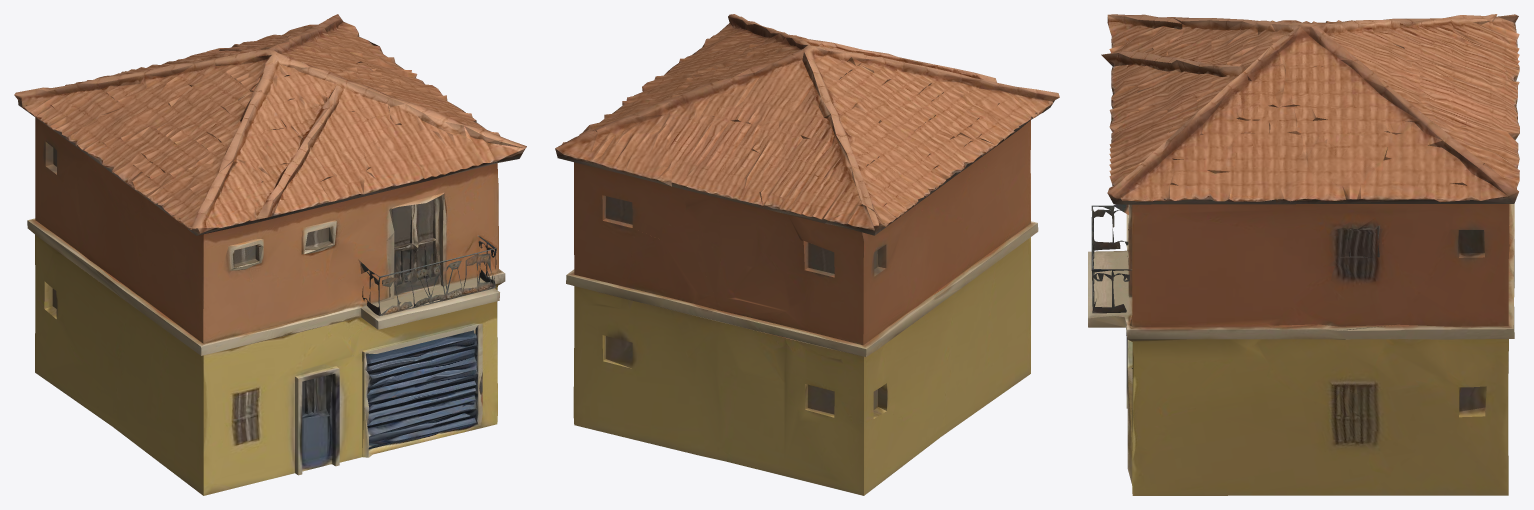
The model's file is predio_sobrado.glb.
3 renders of one model, left to right at view 1: azimuth 30°, elevation 25°; view 2: azimuth 150°, elevation 25°; view 3: azimuth 270°, elevation 25°, orthographic. The views are drawn at different scales.
Parts seen in each view (by area): view 1: tripo_node_ffc6efef-5a32-40a0-8a91-b0246f9edc43; view 2: tripo_node_ffc6efef-5a32-40a0-8a91-b0246f9edc43; view 3: tripo_node_ffc6efef-5a32-40a0-8a91-b0246f9edc43.
Part boxes in pixels (box(x1,y1,x2,y2)): tripo_node_ffc6efef-5a32-40a0-8a91-b0246f9edc43: box(14, 14, 526, 495); tripo_node_ffc6efef-5a32-40a0-8a91-b0246f9edc43: box(555, 14, 1059, 495); tripo_node_ffc6efef-5a32-40a0-8a91-b0246f9edc43: box(1088, 14, 1519, 495).
Bounding box in the file's own units: 1 × 0.9992 × 0.999.
Materials: 1 (1 with a texture image).
